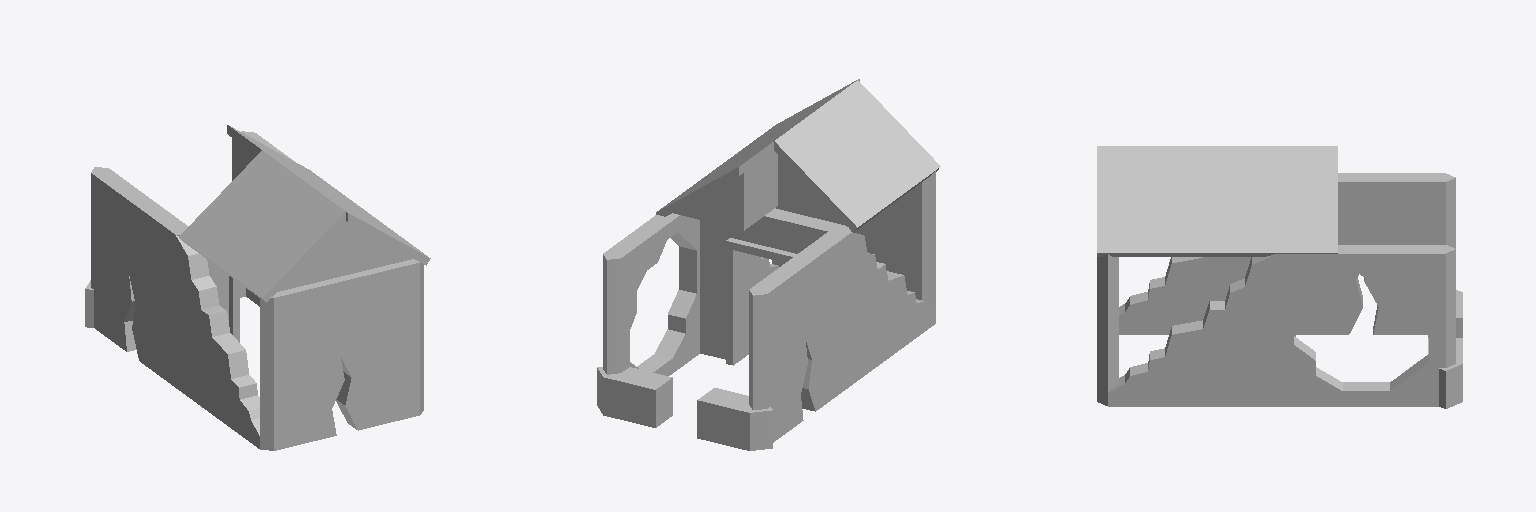
Rendered from Casa 12 Semi Rota.obj.
3 renders of one model, left to right at view 1: azimuth 30°, elevation 25°; view 2: azimuth 150°, elevation 25°; view 3: azimuth 270°, elevation 25°, orthographic.
Bounding box in the file's own units: 1.21 × 1.44 × 2.17.